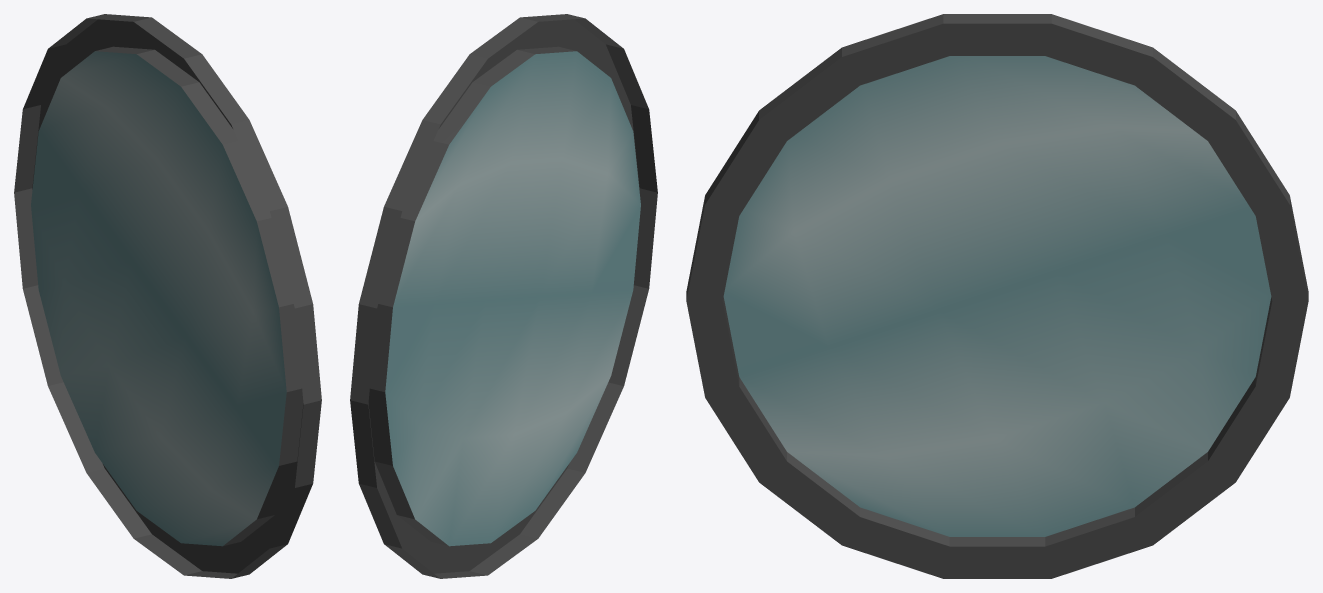
The model's file is BathRoom_04.fbx.
3 renders of one model, left to right at view 1: azimuth 30°, elevation 25°; view 2: azimuth 150°, elevation 25°; view 3: azimuth 270°, elevation 25°, orthographic. The views are drawn at different scales.
Parts seen in each view (by area): view 1: Circle; view 2: Circle; view 3: Circle.
Boxes of the visible parts, x1,y1,x2,y2 form: Circle: (14, 14, 321, 578); Circle: (350, 14, 657, 578); Circle: (686, 14, 1308, 578).
Size of the model in its own units: 14.89 by 401 by 408.
